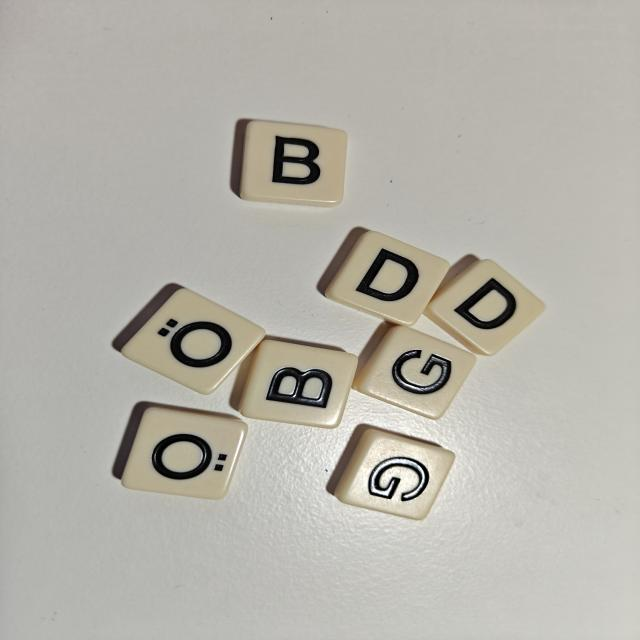b: (239, 340, 358, 428), (240, 121, 347, 207)
d: (325, 231, 449, 326), (424, 259, 545, 355)
g: (353, 326, 475, 419), (335, 428, 455, 520)
o_dot: (121, 289, 265, 394), (122, 407, 248, 499)
